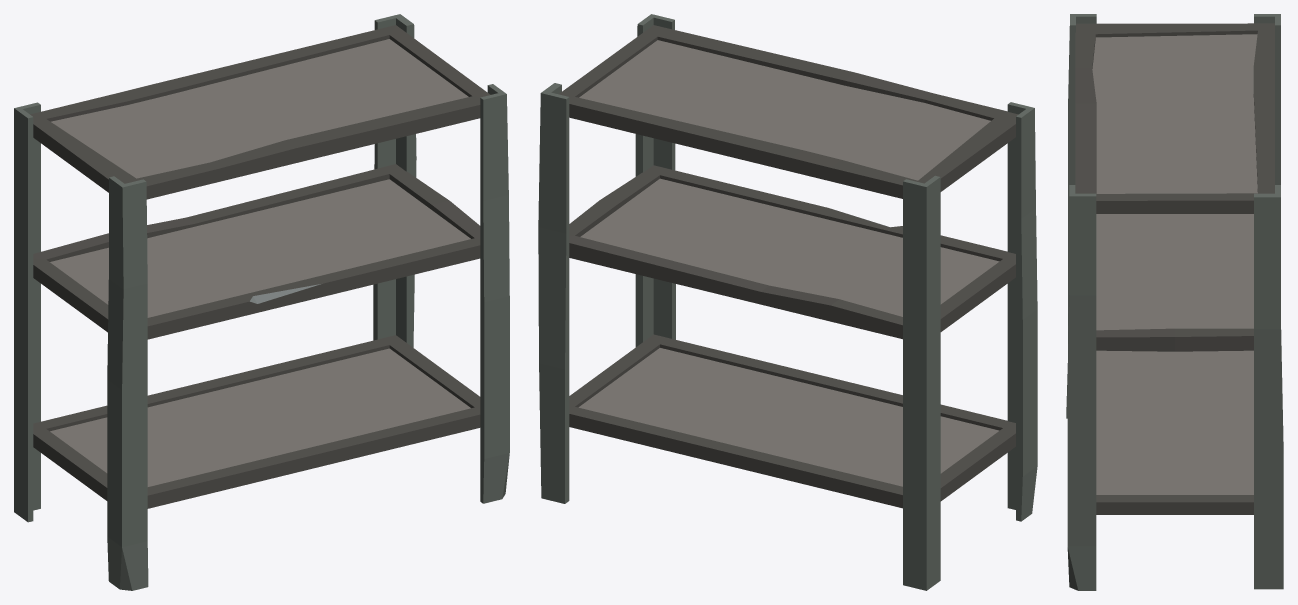
The model's file is SM_Rack_B.gltf.
3 renders of one model, left to right at view 1: azimuth 30°, elevation 25°; view 2: azimuth 150°, elevation 25°; view 3: azimuth 270°, elevation 25°, orthographic. The views are drawn at different scales.
Parts seen in each view (by area): view 1: SM_Rack_B; view 2: SM_Rack_B; view 3: SM_Rack_B.
Boxes of the visible parts, x1,y1,x2,y2 form: SM_Rack_B: [14, 14, 509, 590]; SM_Rack_B: [538, 14, 1037, 590]; SM_Rack_B: [1066, 14, 1283, 590].
Size of the model in its own units: 2.02 by 2 by 1.
Materials: 1 (1 with a texture image).
